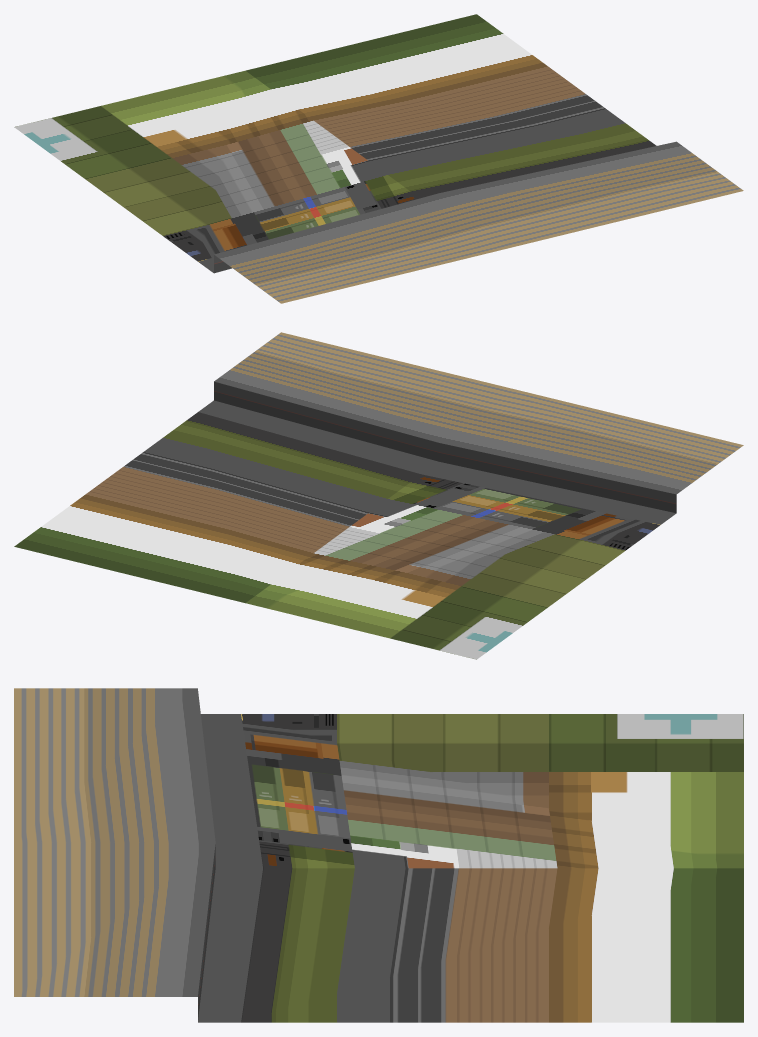
Rendered from road_Dirt_Asphalt_Transition.gltf.
3 renders of one model, top to bottom at view 1: azimuth 30°, elevation 25°; view 2: azimuth 150°, elevation 25°; view 3: azimuth 270°, elevation 25°, orthographic. The views are drawn at different scales.
Parts seen in each view (by area): view 1: road_Dirt_Asphalt_Transition; view 2: road_Dirt_Asphalt_Transition; view 3: road_Dirt_Asphalt_Transition.
Boxes of the visible parts, x1,y1,x2,y2 form: road_Dirt_Asphalt_Transition: [14, 14, 743, 303]; road_Dirt_Asphalt_Transition: [14, 332, 743, 659]; road_Dirt_Asphalt_Transition: [14, 688, 743, 1022].
Bounding box in the file's own units: 5 × 0.1948 × 5.
Materials: 1 (1 with a texture image).
